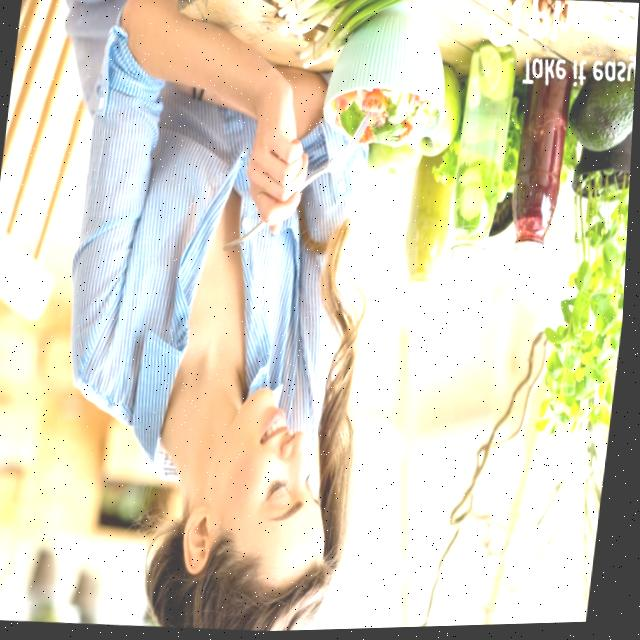eating-person: (0, 0, 470, 640)
